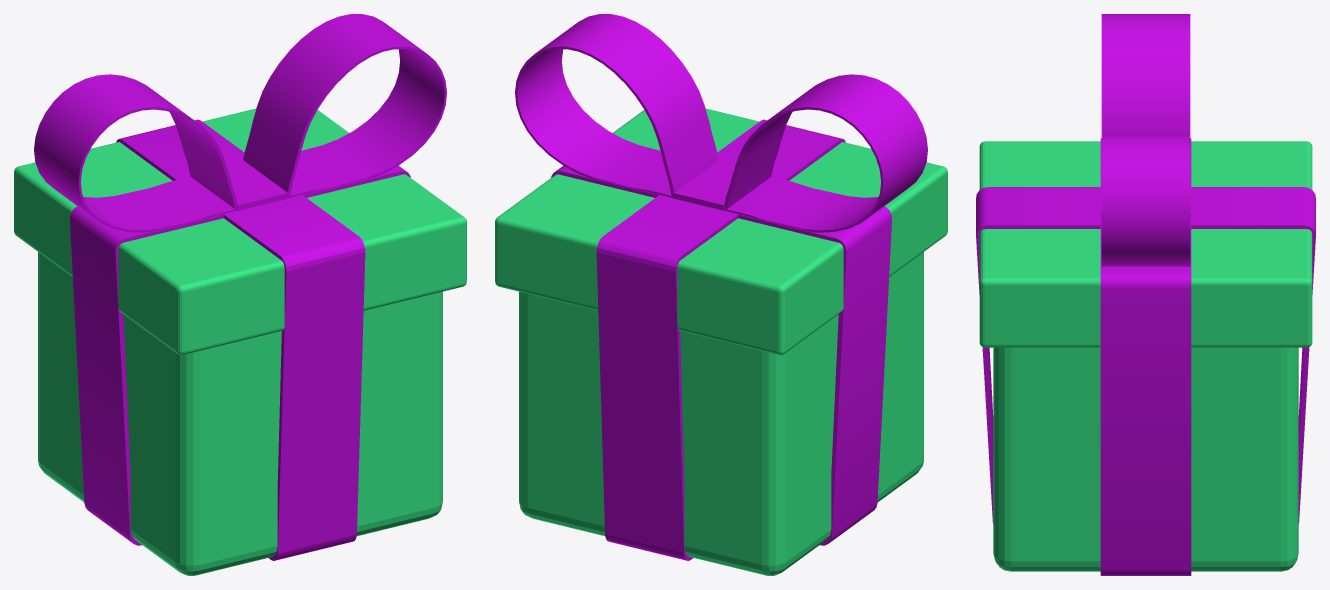
File: SM_Gift_Box.fbx
3 renders of one model, left to right at view 1: azimuth 30°, elevation 25°; view 2: azimuth 150°, elevation 25°; view 3: azimuth 270°, elevation 25°, orthographic.
Visible parts, largest first — view 1: Gift Box; view 2: Gift Box; view 3: Gift Box.
Part boxes in pixels (x1,y1,x2,y2): Gift Box: (14,14,466,575); Gift Box: (495,14,947,575); Gift Box: (976,14,1315,575).
Bounding box in the file's own units: 161 × 182 × 129.
